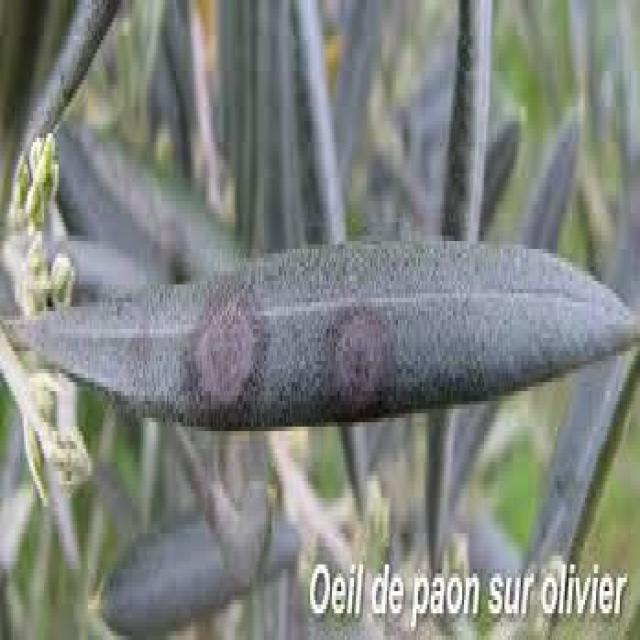Peacock Eye: (35, 240, 634, 427)
